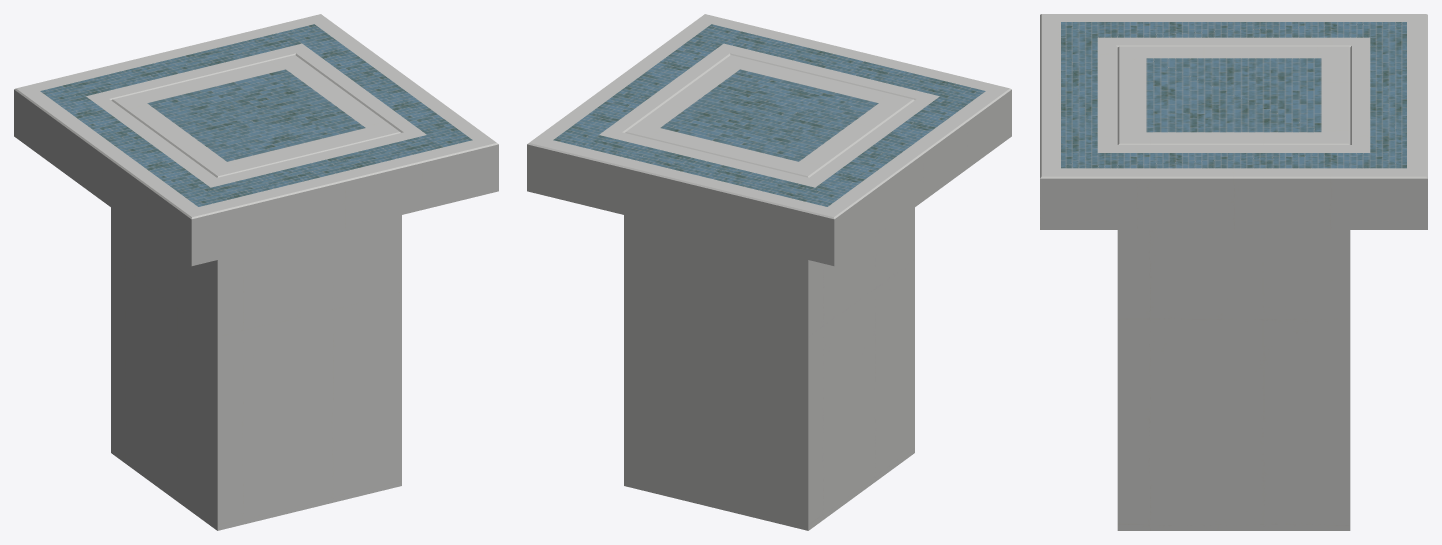
The model's file is PlatformLargeColumnOscY.fbx.
3 renders of one model, left to right at view 1: azimuth 30°, elevation 25°; view 2: azimuth 150°, elevation 25°; view 3: azimuth 270°, elevation 25°, orthographic. The views are drawn at different scales.
Visible parts, largest first — view 1: ColumnTall, PlatformLargeColumnOscY_Floor; view 2: ColumnTall, PlatformLargeColumnOscY_Floor; view 3: ColumnTall, PlatformLargeColumnOscY_Floor.
Part boxes in pixels (left/top/right/bottom): ColumnTall: left=111, top=55, right=401, bottom=530; PlatformLargeColumnOscY_Floor: left=14, top=14, right=498, bottom=266; ColumnTall: left=624, top=55, right=914, bottom=530; PlatformLargeColumnOscY_Floor: left=527, top=14, right=1011, bottom=266; ColumnTall: left=1117, top=46, right=1350, bottom=530; PlatformLargeColumnOscY_Floor: left=1040, top=14, right=1427, bottom=229.
Size of the model in its own units: 500 by 550 by 500.
